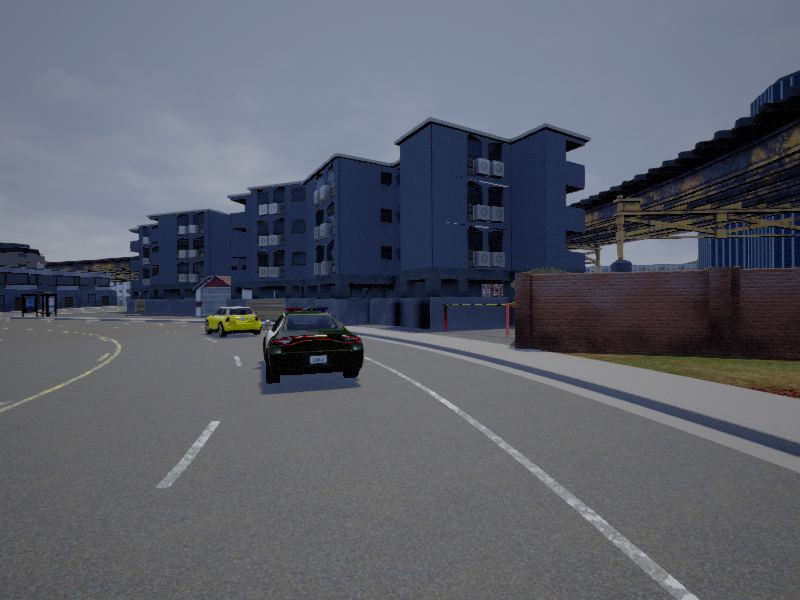Benign: (260, 308, 365, 386), (202, 306, 262, 339)
